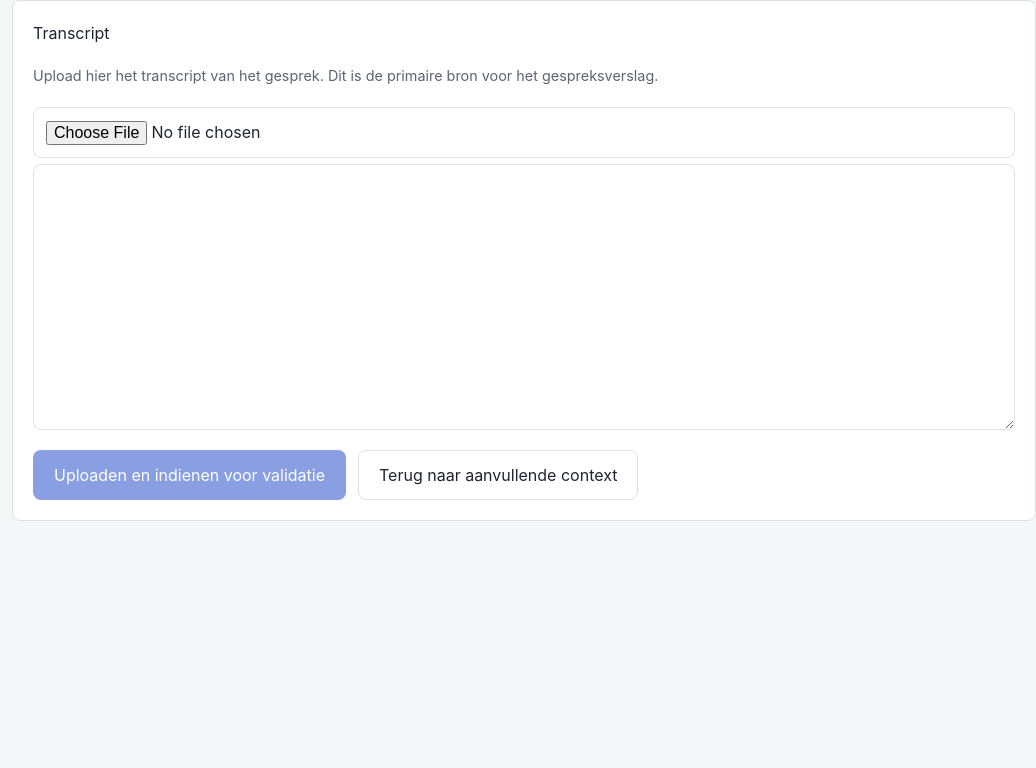
Test: routes/Upload/UploadScreen › shows a translated error message when submission fails
Type "Some transcript content" into the text box labelled "Transcript". click: (524, 297)
box: [33,164,1015,430]
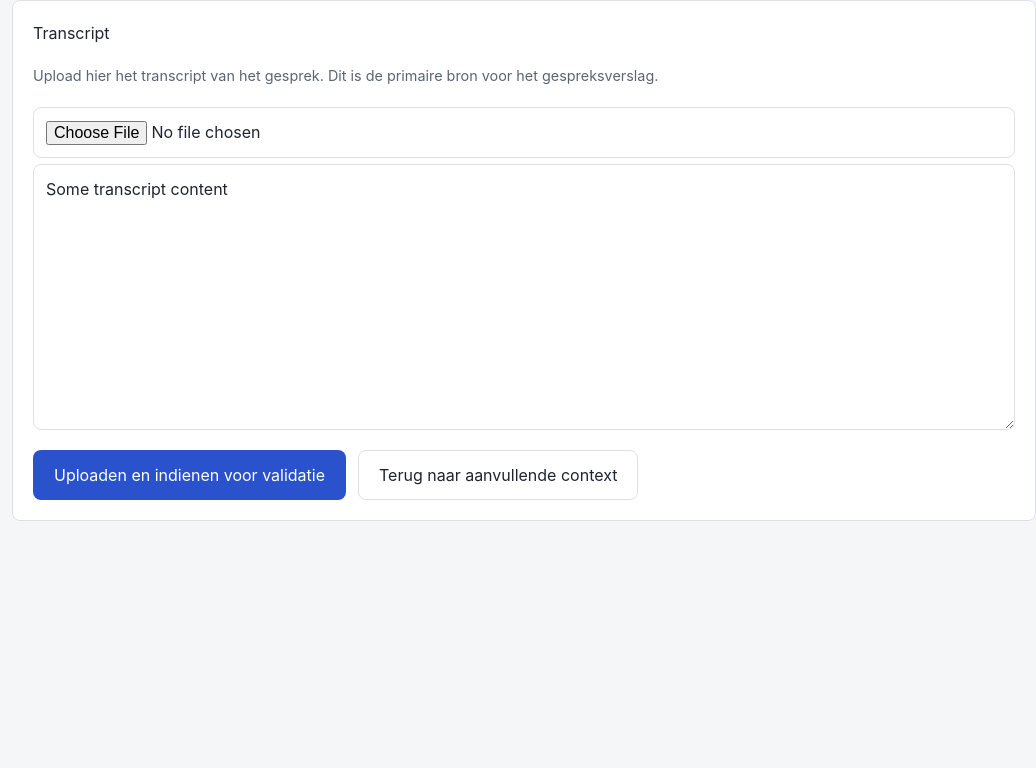
Click the button "Uploaden en indienen voor validatie". click: (190, 475)
box: [33,450,346,500]
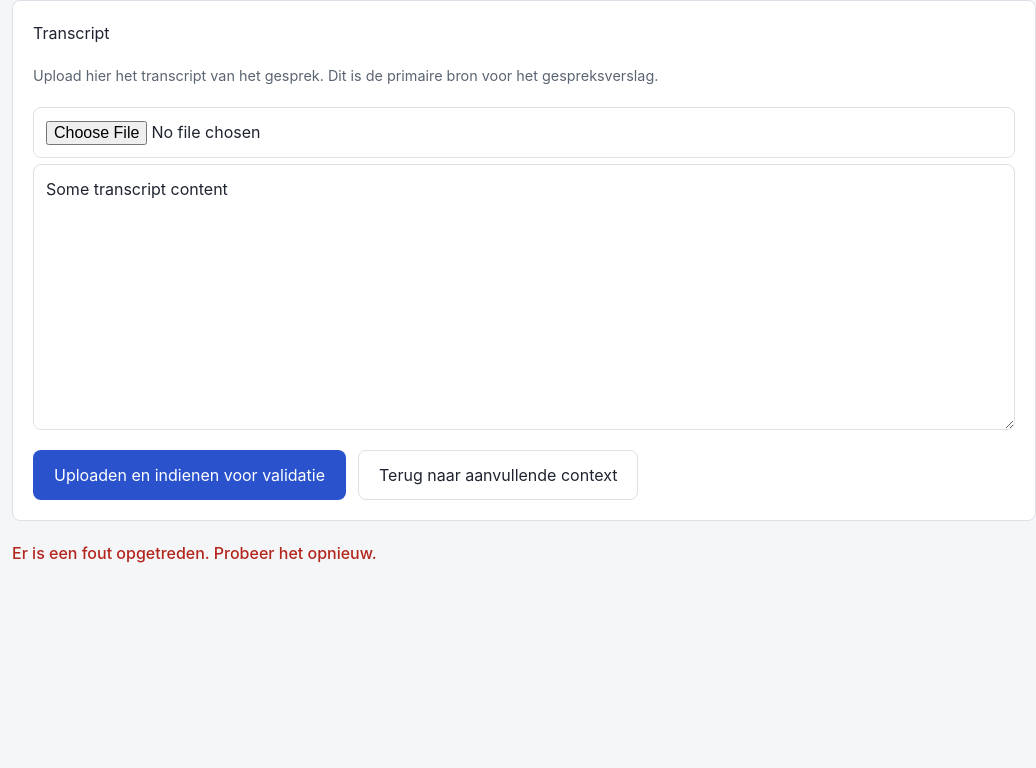
Result: the message shows "Er is een fout opgetreden." at [12,543,377,563]
